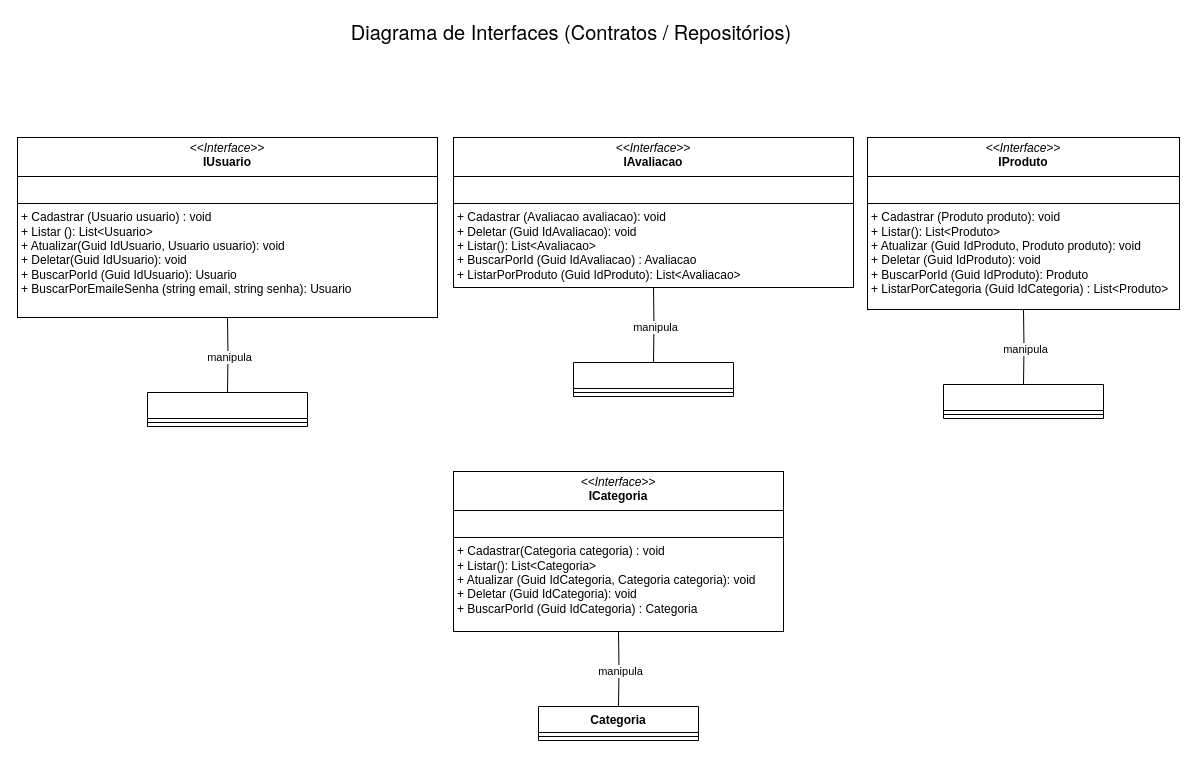
The diagram is 1197 pixels wide and 758 high, and some of its shapes have lost their labels. Each missing label, with the centre of its shape:
"Avaliacao" belongs at point (653, 379).
"Produto" belongs at point (1023, 401).
"Usuario" belongs at point (227, 409).
